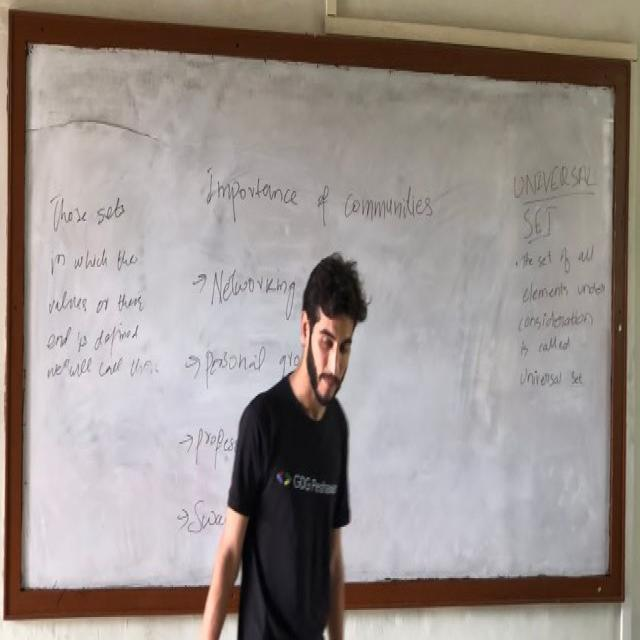Instructor: (224, 247, 363, 640)
White-board: (15, 32, 621, 603)
